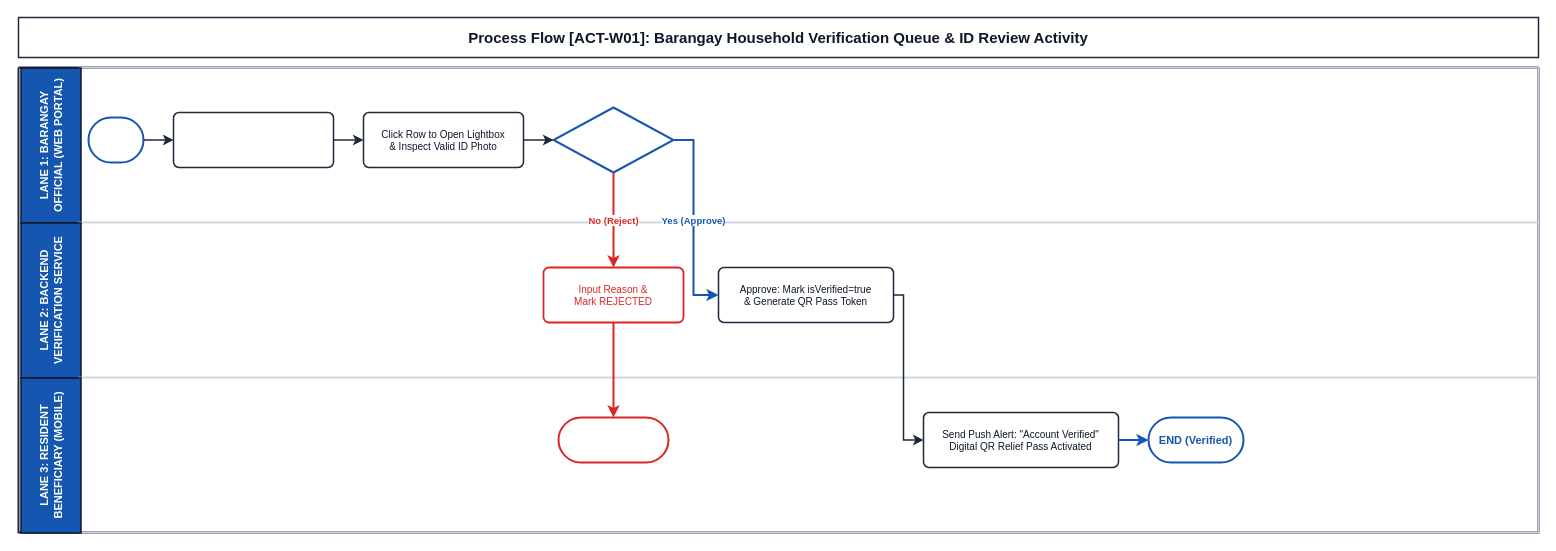
Image size: 1556x551. Some labels were removed from this diagram. The box of each missing label's shape, as (x1, y1, x2, y2) in pixels:
END (Rejected): (557, 416, 669, 463)
Open Verification Queue in Web Admin Dashboard: (172, 111, 334, 168)
START: (87, 116, 144, 163)
Valid Resident & Clear ID?: (552, 106, 674, 173)
